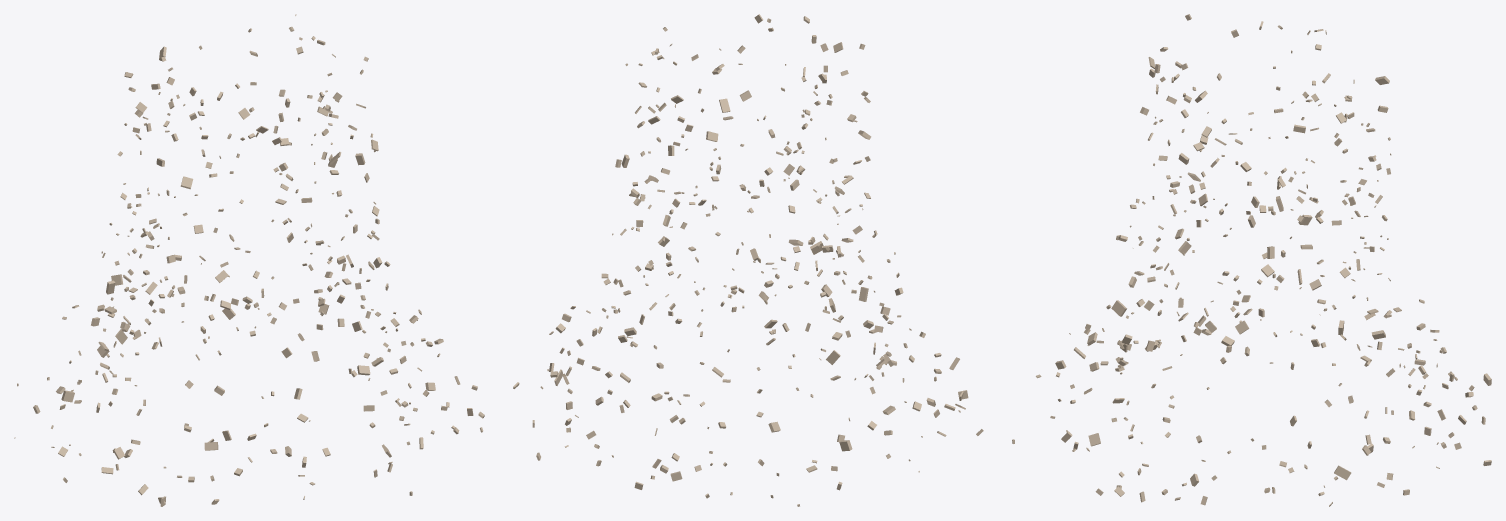
The model's file is swarm_low.glb.
3 renders of one model, left to right at view 1: azimuth 30°, elevation 25°; view 2: azimuth 150°, elevation 25°; view 3: azimuth 270°, elevation 25°, orthographic. The views are drawn at different scales.
Parts seen in each view (by area): view 1: g0; view 2: g0; view 3: g0.
Part boxes in pixels (box(x1,y1,x2,y2)): g0: box(14, 14, 484, 506); g0: box(513, 14, 983, 506); g0: box(1012, 14, 1491, 506).
Bounding box in the file's own units: 20.74 × 18.37 × 21.38.
